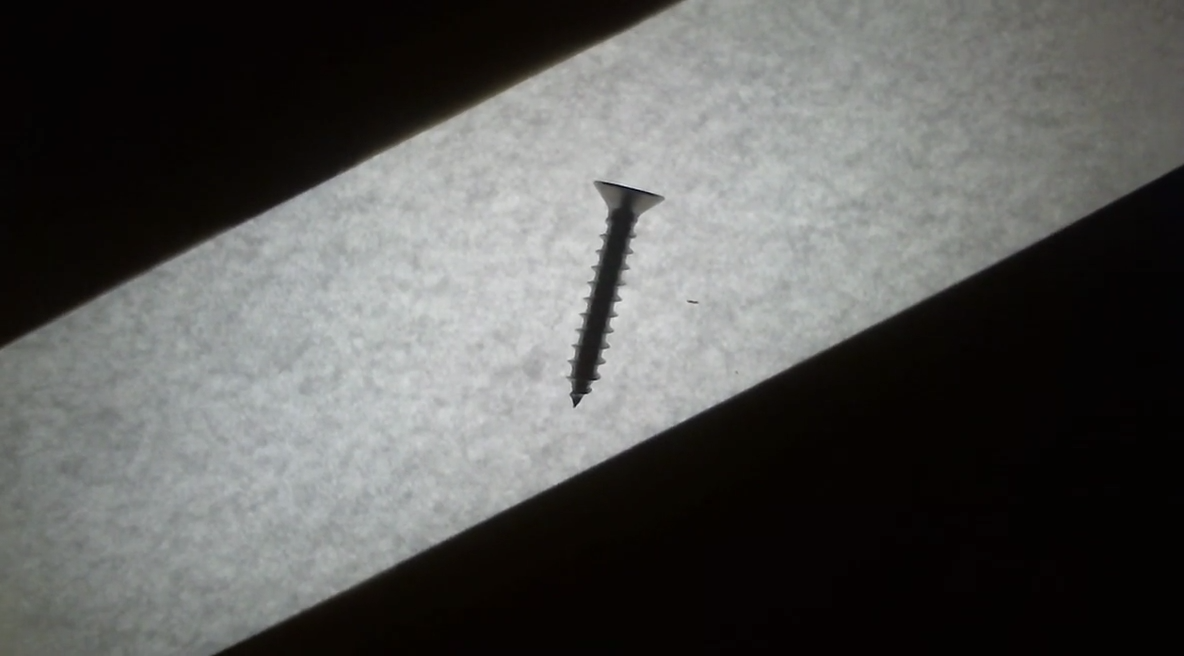S001: (549, 157, 672, 412)
